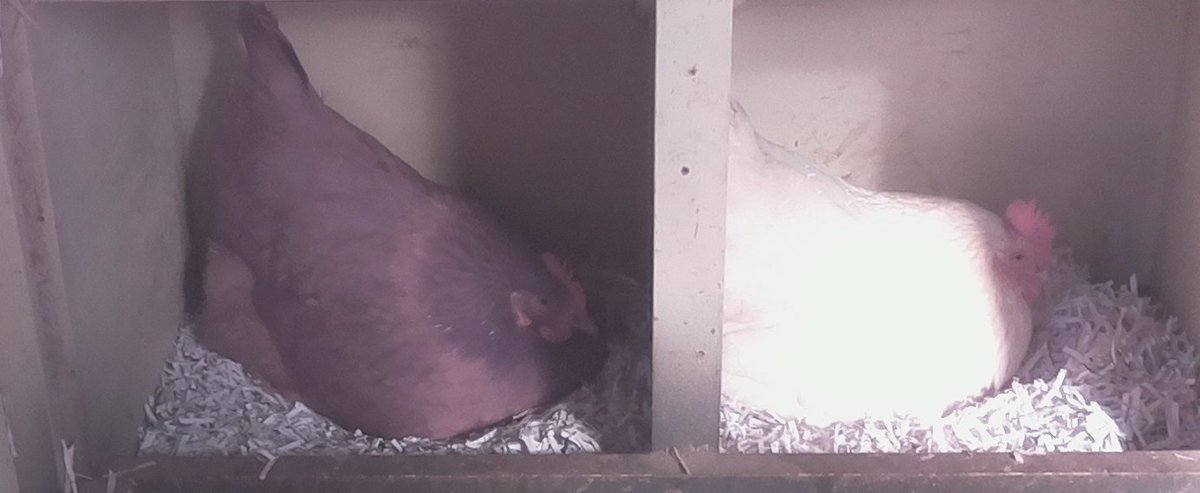hen: (187, 22, 611, 448), (730, 108, 1059, 437)
